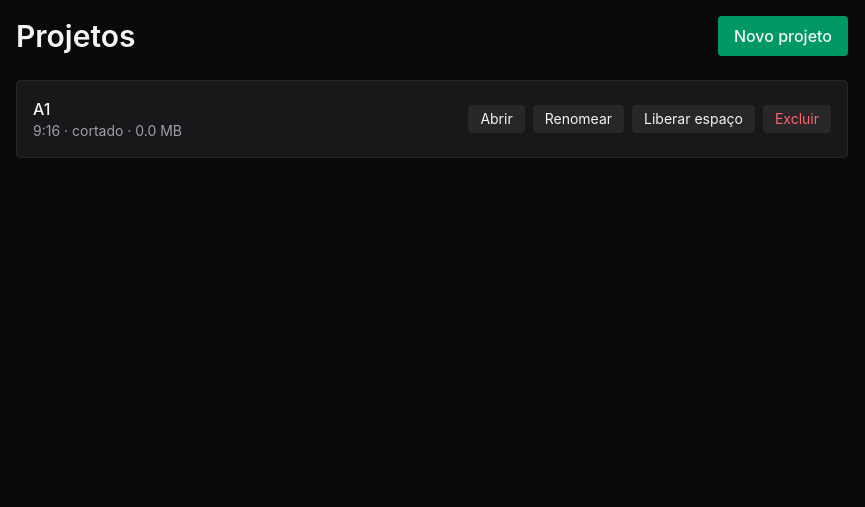
Scenario: RecordedWizard › do wizard dá para voltar à lista
Click the button with aria-label "abrir A1": (497, 119) [468, 105, 525, 133]
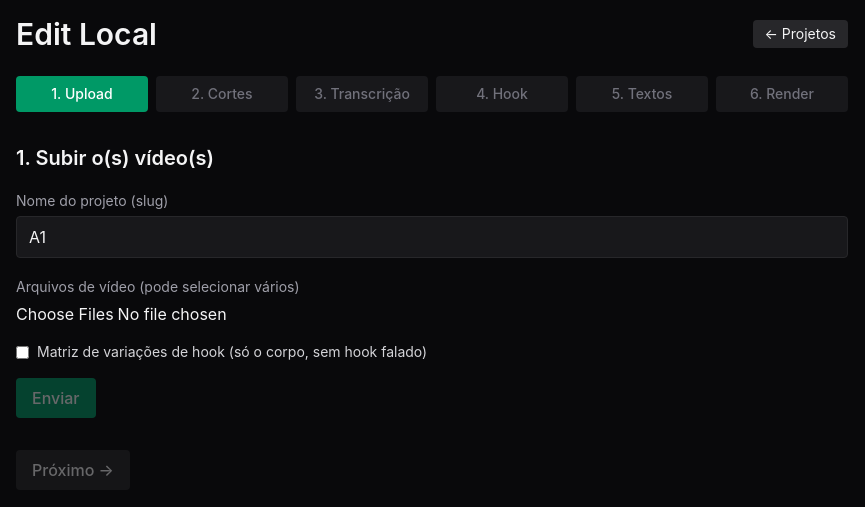
Click the button "← Projetos": (800, 34) [752, 20, 848, 48]
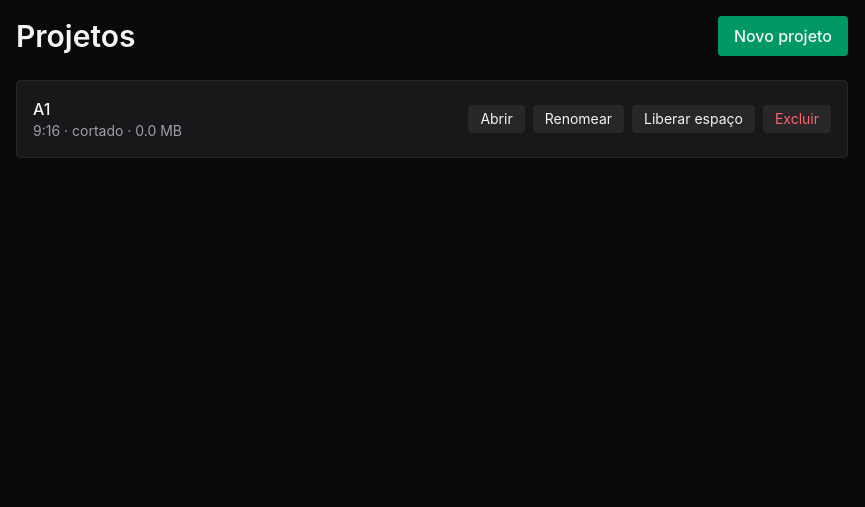
Expected: the heading "Projetos" is shown, [16, 18, 136, 54]
